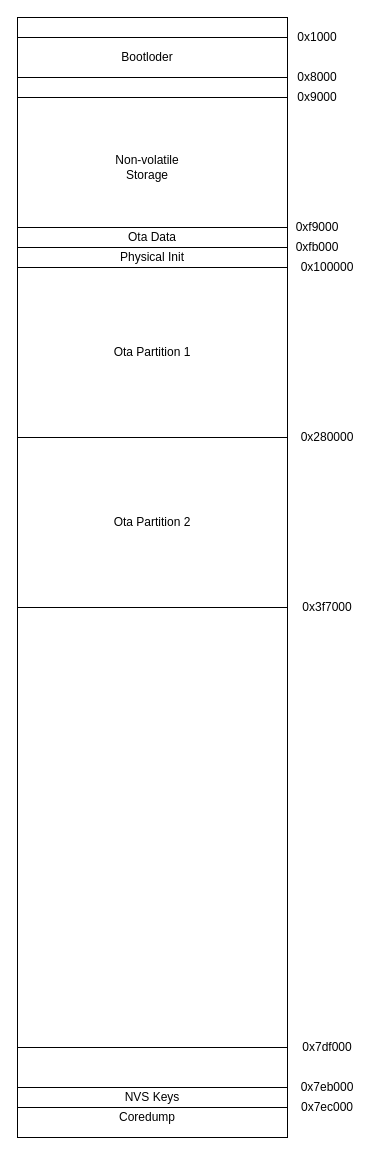
Image size: 371x1155. Some labels were removed from this diagram. Each missing label, with the centre of its shape:
"Factory Settings" goes at point 152,1067.
"WWW" goes at point 152,827.
